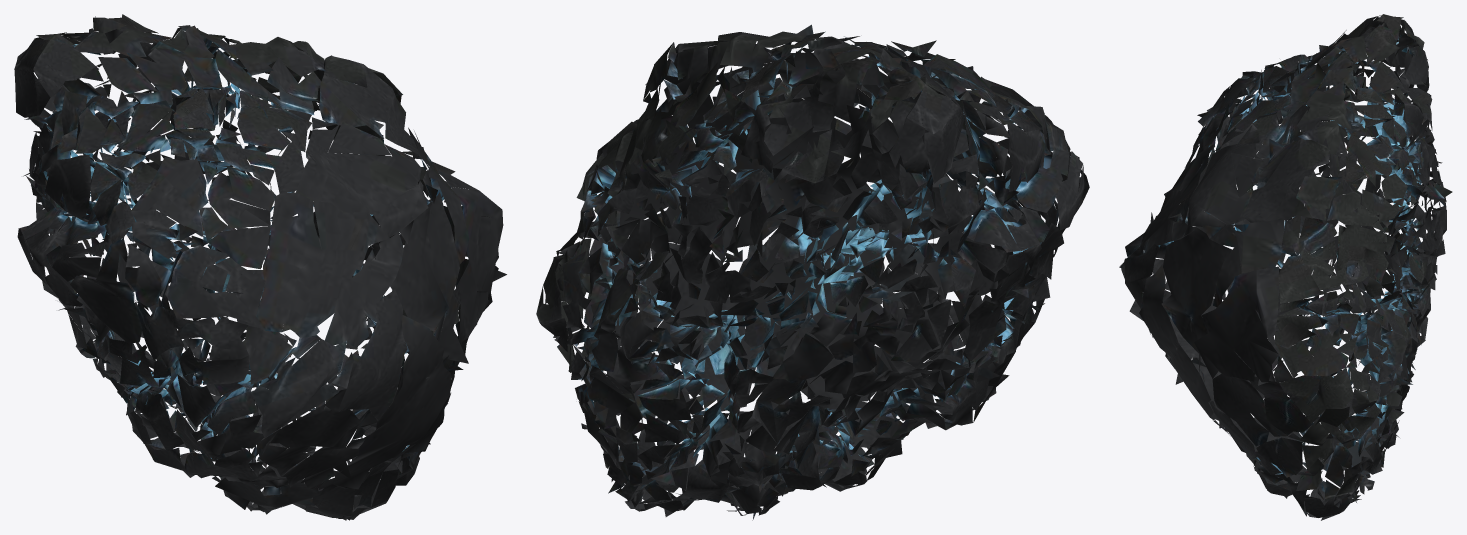
The model's file is asteroid1.glb.
The picture shows the model from 3 angles, left to right: view 1: azimuth 30°, elevation 25°; view 2: azimuth 150°, elevation 25°; view 3: azimuth 270°, elevation 25°; orthographic projection. The views are drawn at different scales.
Visible parts, largest first — view 1: Mesh_0; view 2: Mesh_0; view 3: Mesh_0.
Boxes of the visible parts, x1,y1,x2,y2 form: Mesh_0: (14, 14, 506, 520); Mesh_0: (536, 24, 1089, 520); Mesh_0: (1119, 14, 1452, 520).
Size of the model in its own units: 1.99 by 2.17 by 1.63.
1 material, 1 textured.
